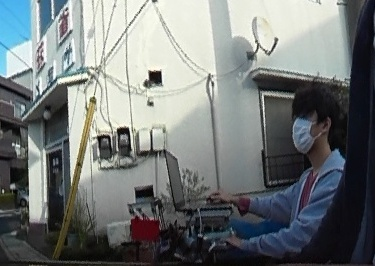person: (267, 83, 348, 266)
